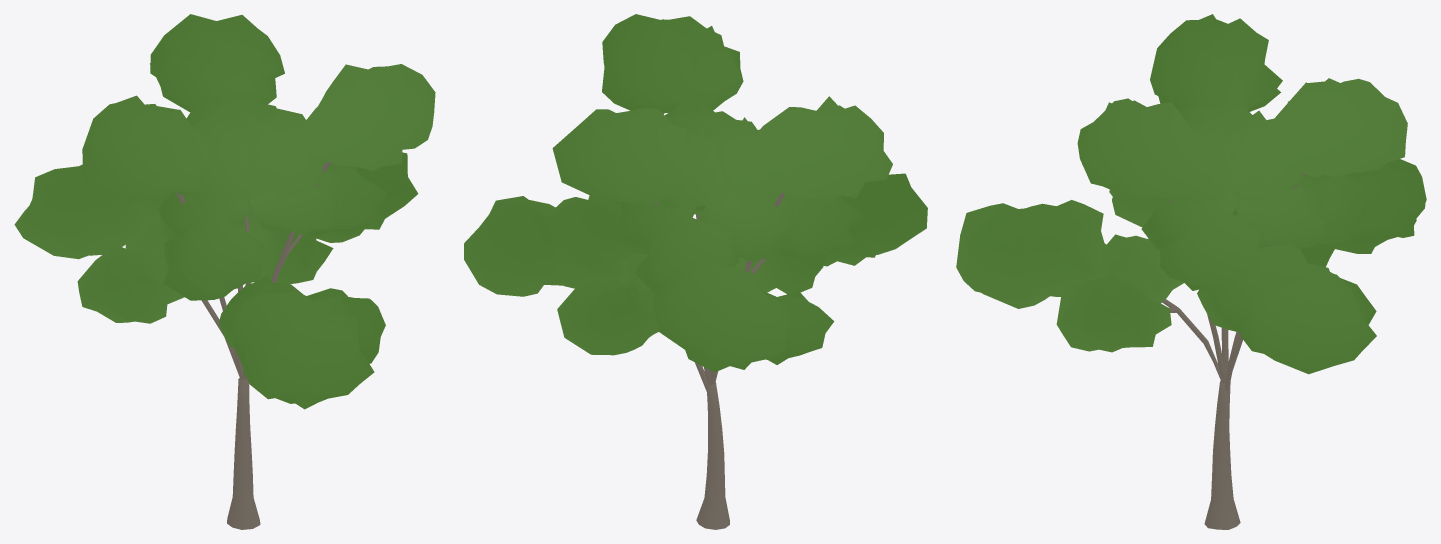
Rendered from Blender_Pecan_1.glb.
3 renders of one model, left to right at view 1: azimuth 30°, elevation 25°; view 2: azimuth 150°, elevation 25°; view 3: azimuth 270°, elevation 25°, orthographic.
Parts seen in each view (by area): view 1: Blender_Pecan_1; view 2: Blender_Pecan_1; view 3: Blender_Pecan_1.
Part boxes in pixels (x1=…): Blender_Pecan_1: x1=14, y1=14, x2=435, y2=529; Blender_Pecan_1: x1=464, y1=14, x2=927, y2=529; Blender_Pecan_1: x1=956, y1=14, x2=1426, y2=529.
Bounding box in the file's own units: 25.98 × 31.08 × 28.77.
